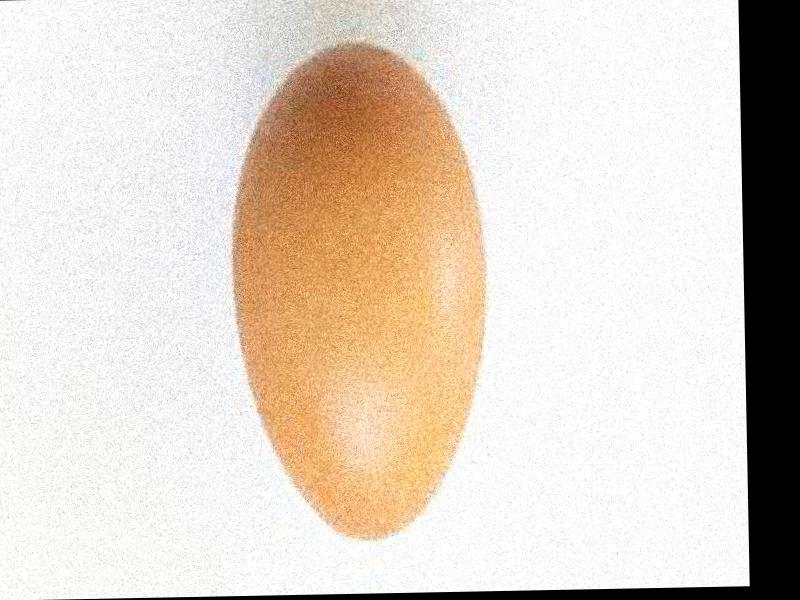Eggs: (228, 43, 489, 542)
